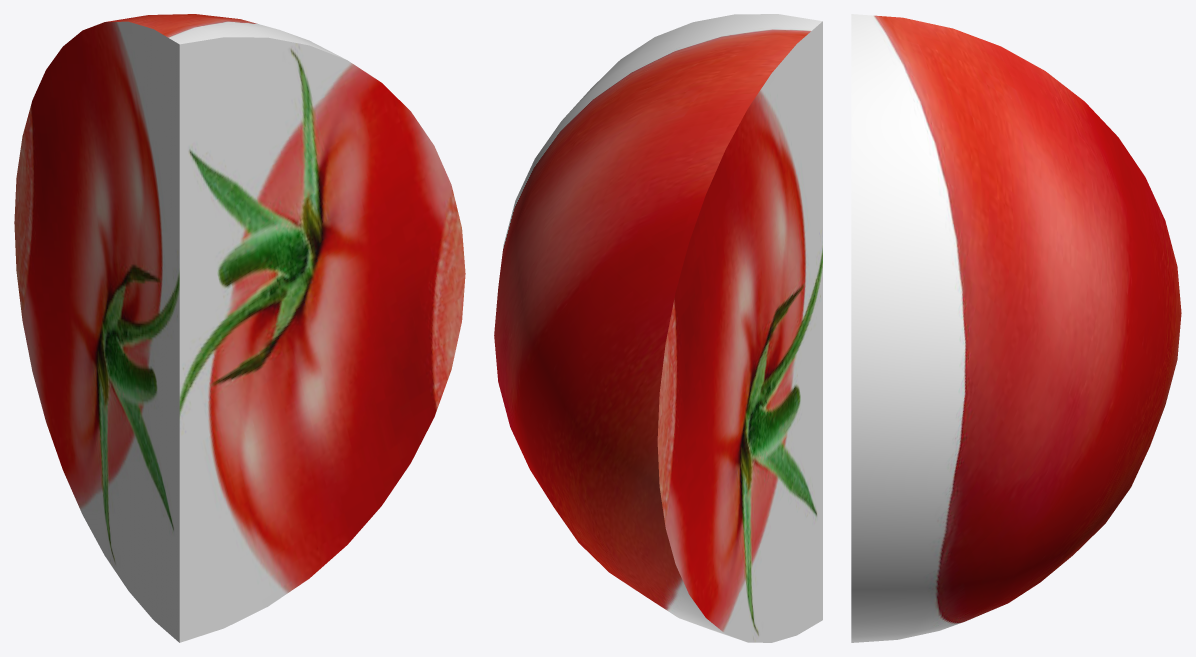
Rendered from Tomato.obj.
3 views of the same model, side by side, from view 1: azimuth 30°, elevation 25°; view 2: azimuth 150°, elevation 25°; view 3: azimuth 270°, elevation 25° (orthographic).
Parts seen in each view (by area): view 1: Tomato1; view 2: Tomato1; view 3: Tomato1.
Boxes of the visible parts, x1,y1,x2,y2 form: Tomato1: (14, 14, 465, 642); Tomato1: (494, 14, 822, 642); Tomato1: (851, 14, 1181, 642).
Bounding box in the file's own units: 1 × 2 × 1.
